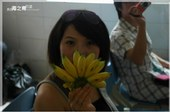face: (59, 26, 102, 72)
